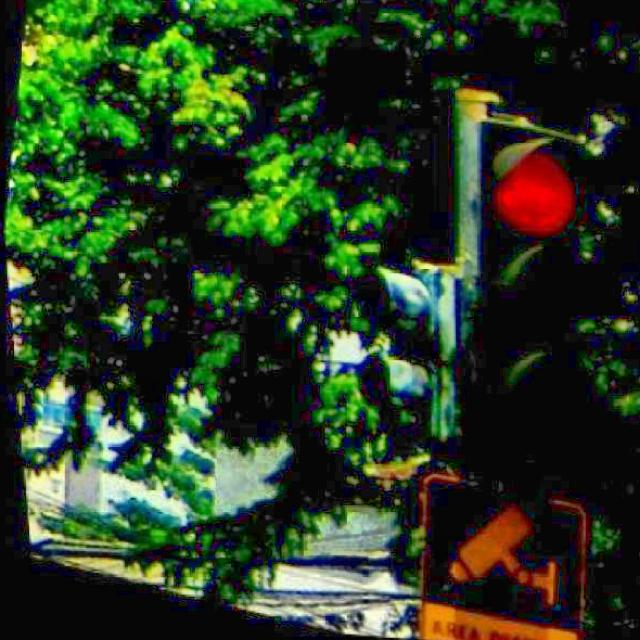red: (441, 130, 599, 469)
